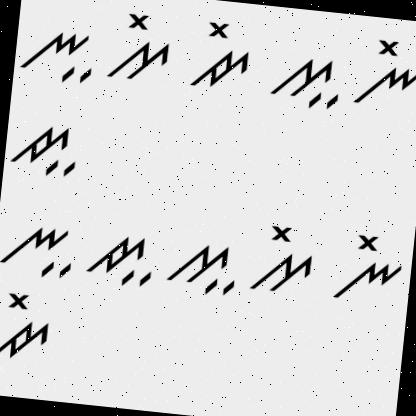jah: (84, 223, 162, 292), (8, 115, 82, 182)
jo: (186, 17, 258, 98), (0, 286, 63, 366)
nyah: (15, 10, 102, 89), (0, 215, 80, 282)
nyo: (328, 222, 408, 305), (348, 32, 416, 114)
sah: (265, 41, 347, 113), (162, 236, 244, 300)
so: (102, 4, 176, 90), (250, 216, 319, 298)
